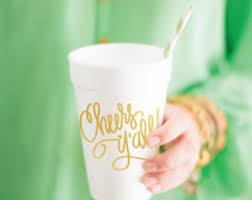Plastic cup: (64, 31, 173, 200)
